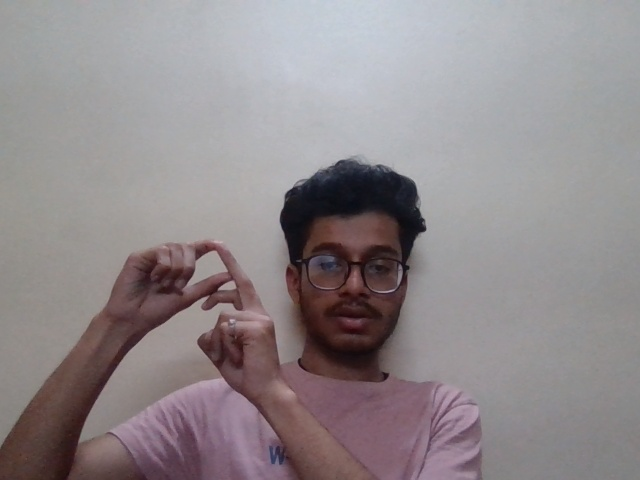R: (87, 237, 308, 398)
